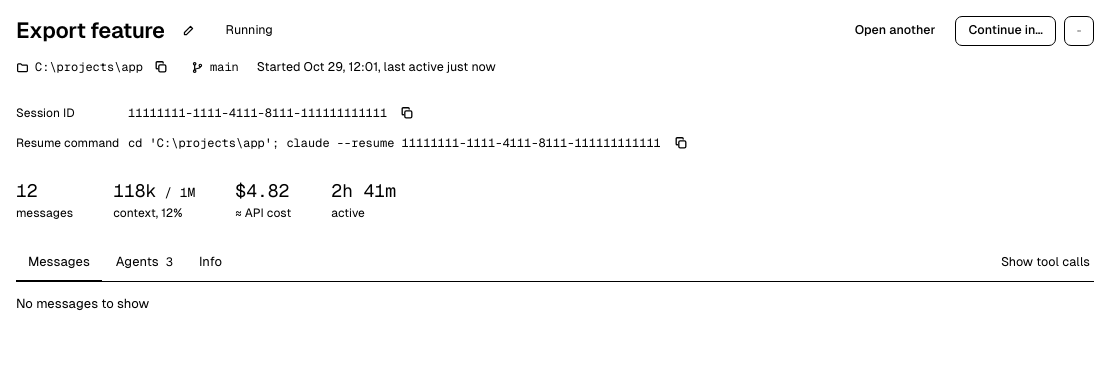
Scenario: DetailPanel tabs › lists agents of a live session, running first, finished as done
What coordinates should you click on to do the following:
click the tab "Agents 3"
I would click on:
 (144, 263)
Its box is [104,244,185,282].
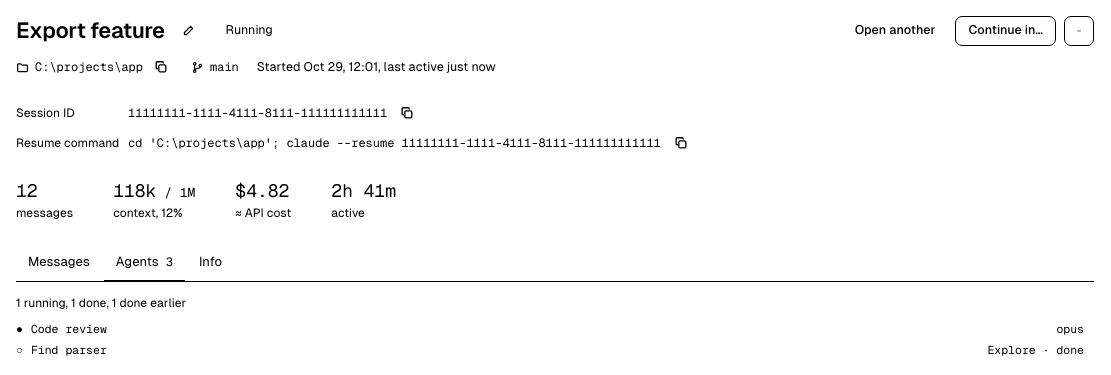
Expected: the text "1 running, 1 done, 1 done earlier" is shown, [16,296,186,310]
Expected: the text "opus" is shown, [1056,320,1084,337]
Expected: the text "Explore · done" is shown, [987,341,1084,358]
